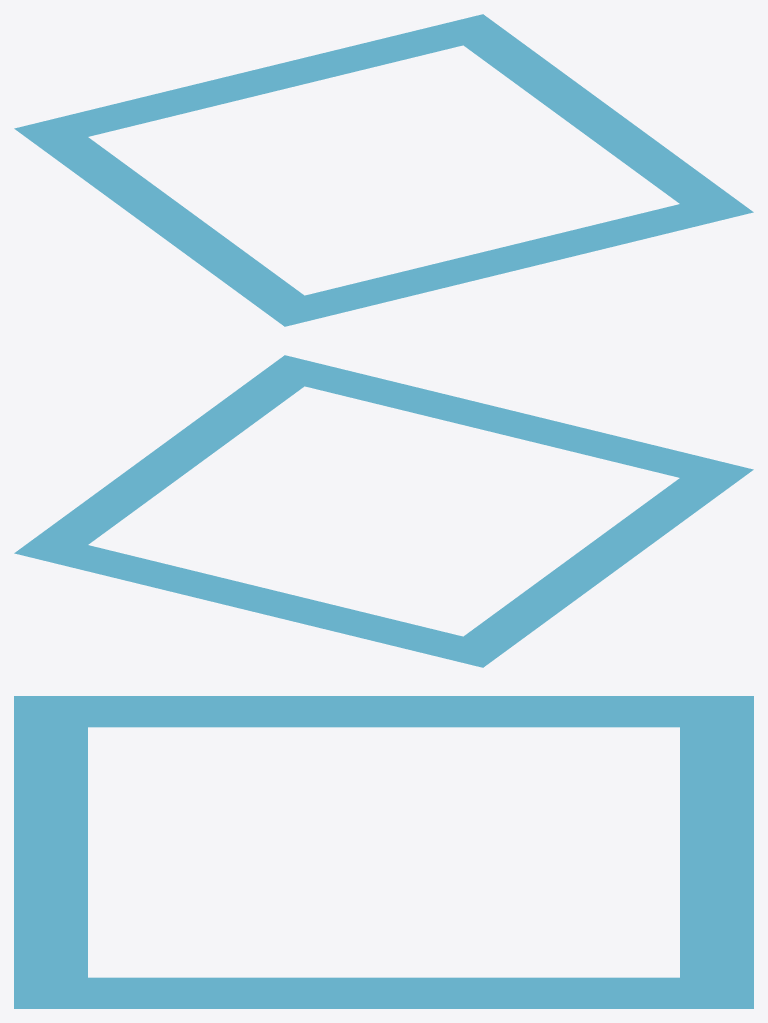
Rendered from Button_BlueBox.glb.
3 renders of one model, top to bottom at view 1: azimuth 30°, elevation 25°; view 2: azimuth 150°, elevation 25°; view 3: azimuth 270°, elevation 25°, orthographic. The views are drawn at different scales.
Visible parts, largest first — view 1: indicator-special-cross.003; view 2: indicator-special-cross.003; view 3: indicator-special-cross.003.
Part boxes in pixels (bbox=[...]): indicator-special-cross.003: bbox=[14, 14, 753, 326]; indicator-special-cross.003: bbox=[14, 355, 753, 667]; indicator-special-cross.003: bbox=[14, 696, 753, 1008].
Bounding box in the file's own units: 1 × 0 × 1.
